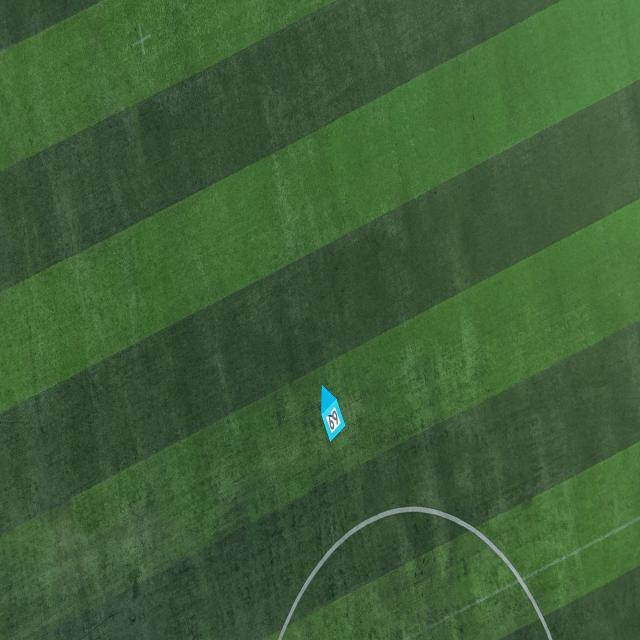board: (319, 380, 349, 447)
